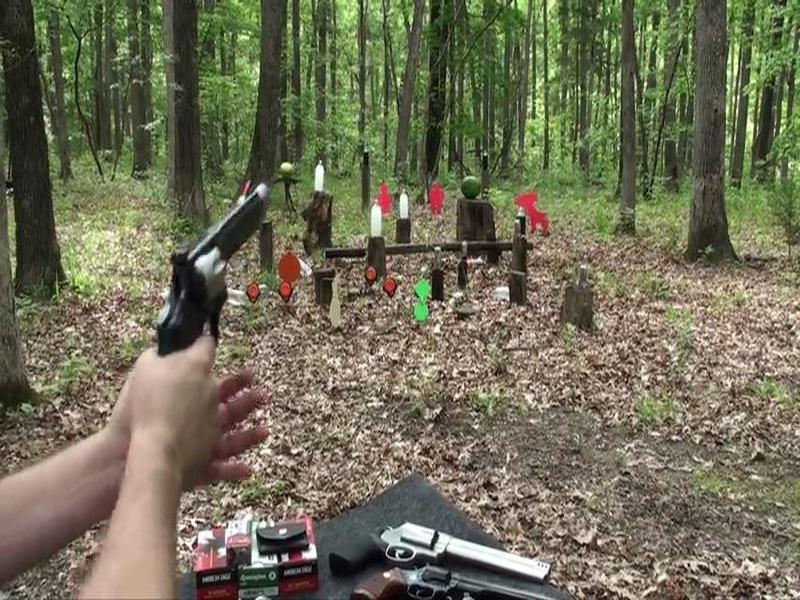Revolver: (137, 153, 287, 384)
